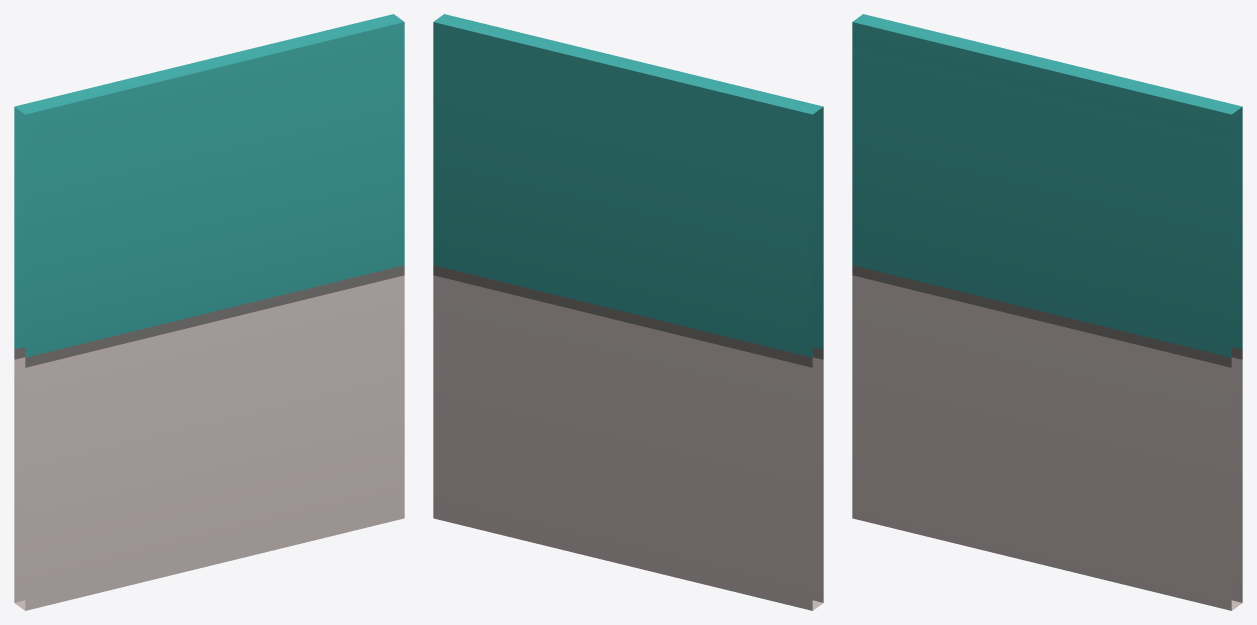
The model's file is Wall_2m.fbx.
The picture shows the model from 3 angles, left to right: view 1: azimuth 30°, elevation 25°; view 2: azimuth 150°, elevation 25°; view 3: azimuth 330°, elevation 25°; orthographic projection.
Visible parts, largest first — view 1: Wall; view 2: Wall; view 3: Wall.
Boxes of the visible parts, x1,y1,x2,y2 form: Wall: (14,14,404,610); Wall: (433,14,823,610); Wall: (852,14,1242,610).
Size of the model in its own units: 2 by 2.5 by 0.1.
